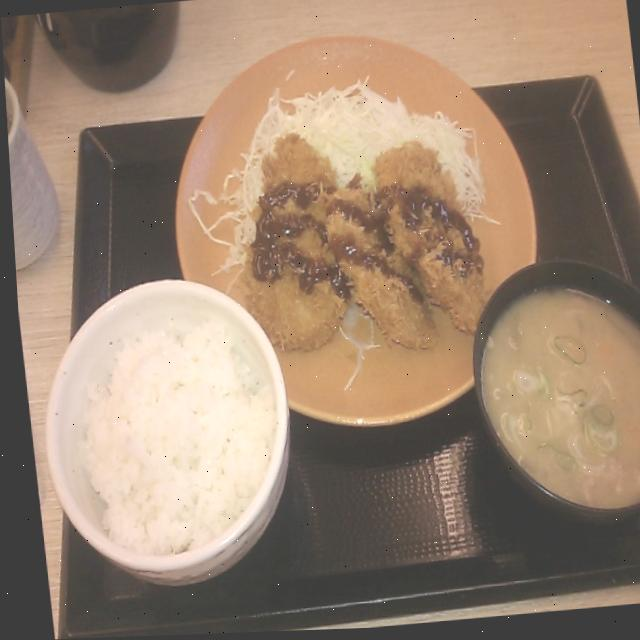米饭主食: (23, 270, 307, 595)
